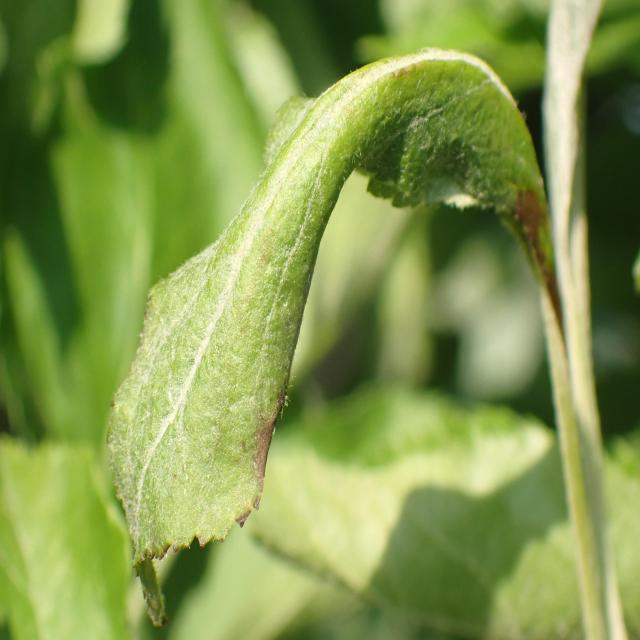Powdery_mildew: (96, 51, 563, 625)
